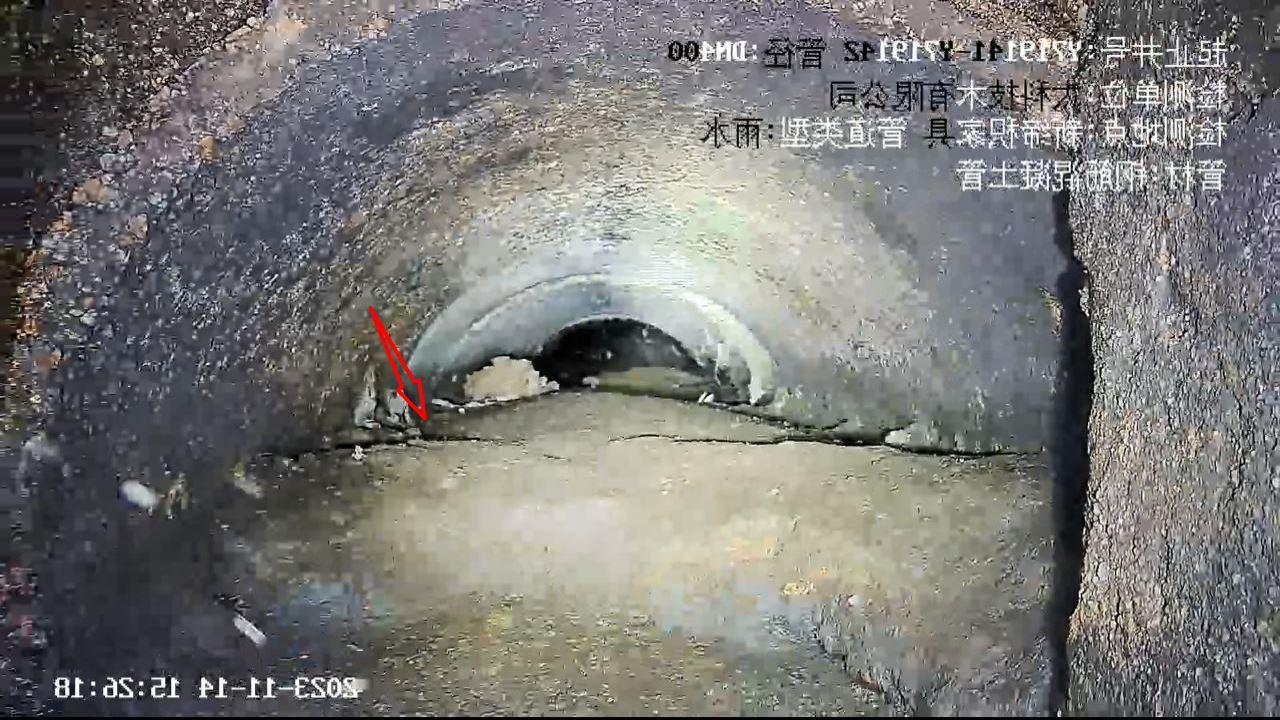CJ: (233, 358, 1052, 715)
CKTJ: (425, 270, 792, 411)
